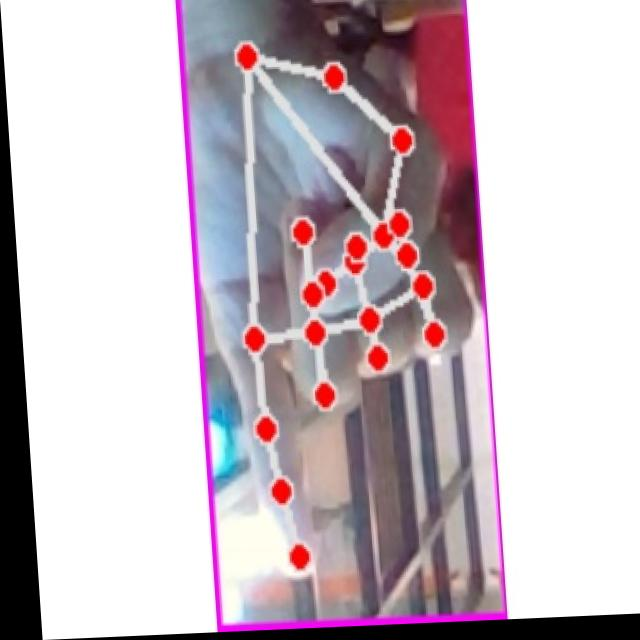I: (188, 6, 483, 593)
